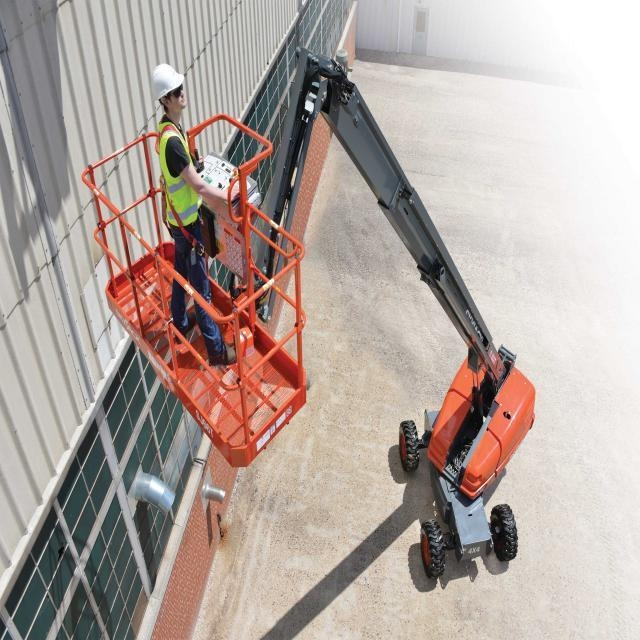Arnes_seguridad: (159, 122, 206, 253)
